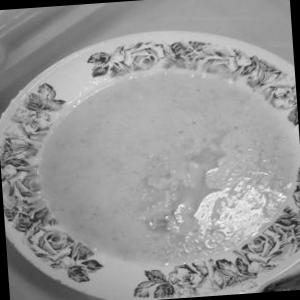porridge: (21, 42, 300, 281)
